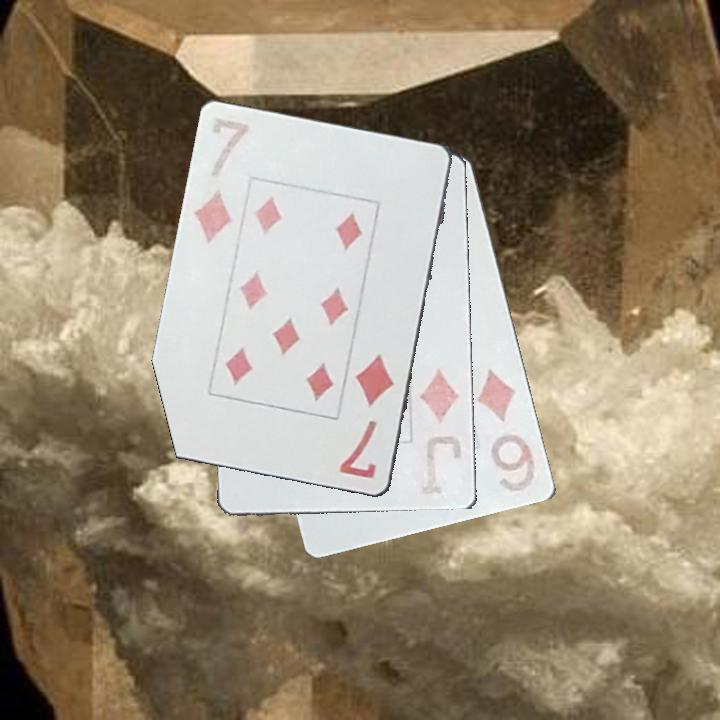6d: (474, 365, 539, 497)
7d: (190, 115, 253, 248), (336, 350, 397, 482)
Jd: (417, 366, 465, 501)
